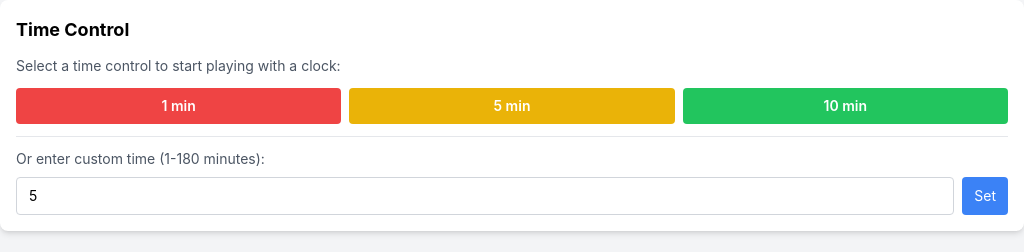
Scenario: ChessClock Component › Input Validation Edge Cases › corrects invalid values on blur
Test correction of value too high
Replace the text in the field with placeholder "Minutes (1-180)" with "200": (485, 196) top-left (16, 177), bottom-right (954, 215)
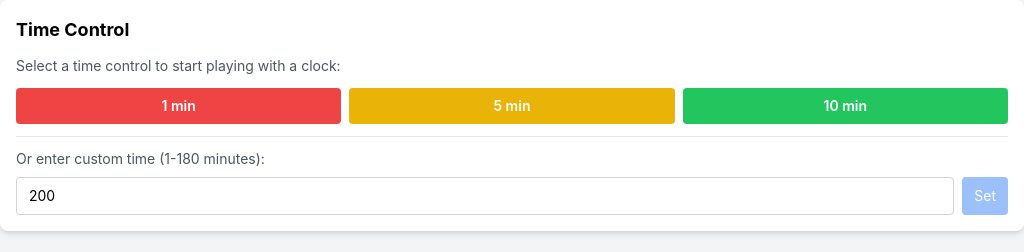
Leave the field with placeholder "Minutes (1-180)", box top-left (16, 177), bottom-right (954, 215)
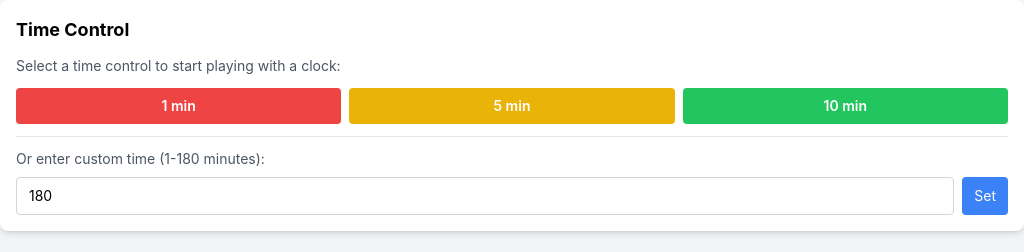
Expected: the field with placeholder "Minutes (1-180)" holds "180"
Test correction of empty value
Clear the field with placeholder "Minutes (1-180)": (485, 196) top-left (16, 177), bottom-right (954, 215)
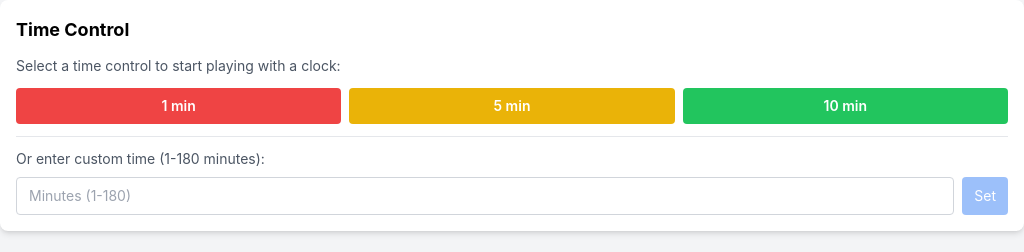
Leave the field with placeholder "Minutes (1-180)", box top-left (16, 177), bottom-right (954, 215)
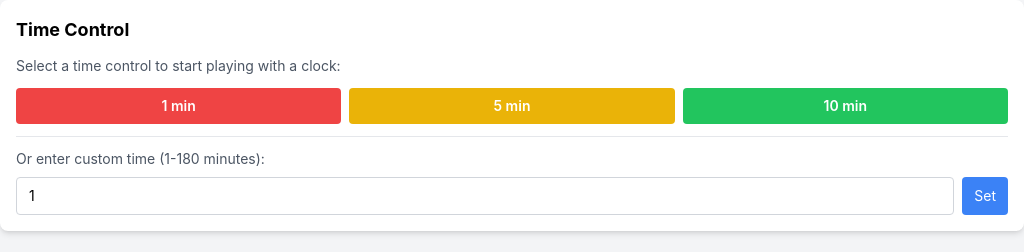
Expected: the field with placeholder "Minutes (1-180)" holds "1", top-left (16, 177), bottom-right (954, 215)
